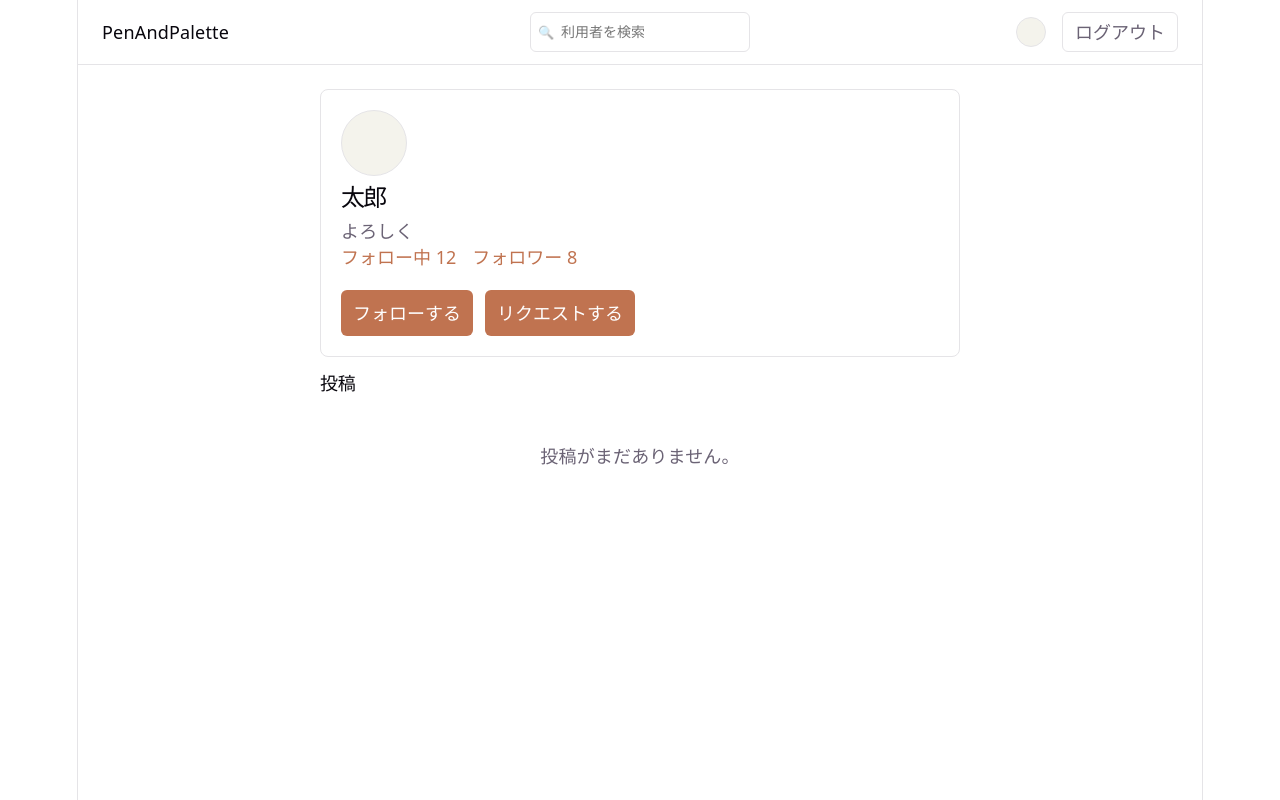
ProfileView › 他人のプロフィールで「フォローする」ボタンを押すとフォローし、表示が切り替わる
This screenshot has width=1280, height=800.
Click the button with test id "profile-follow-button". click: (407, 313)
box: [341, 290, 473, 336]
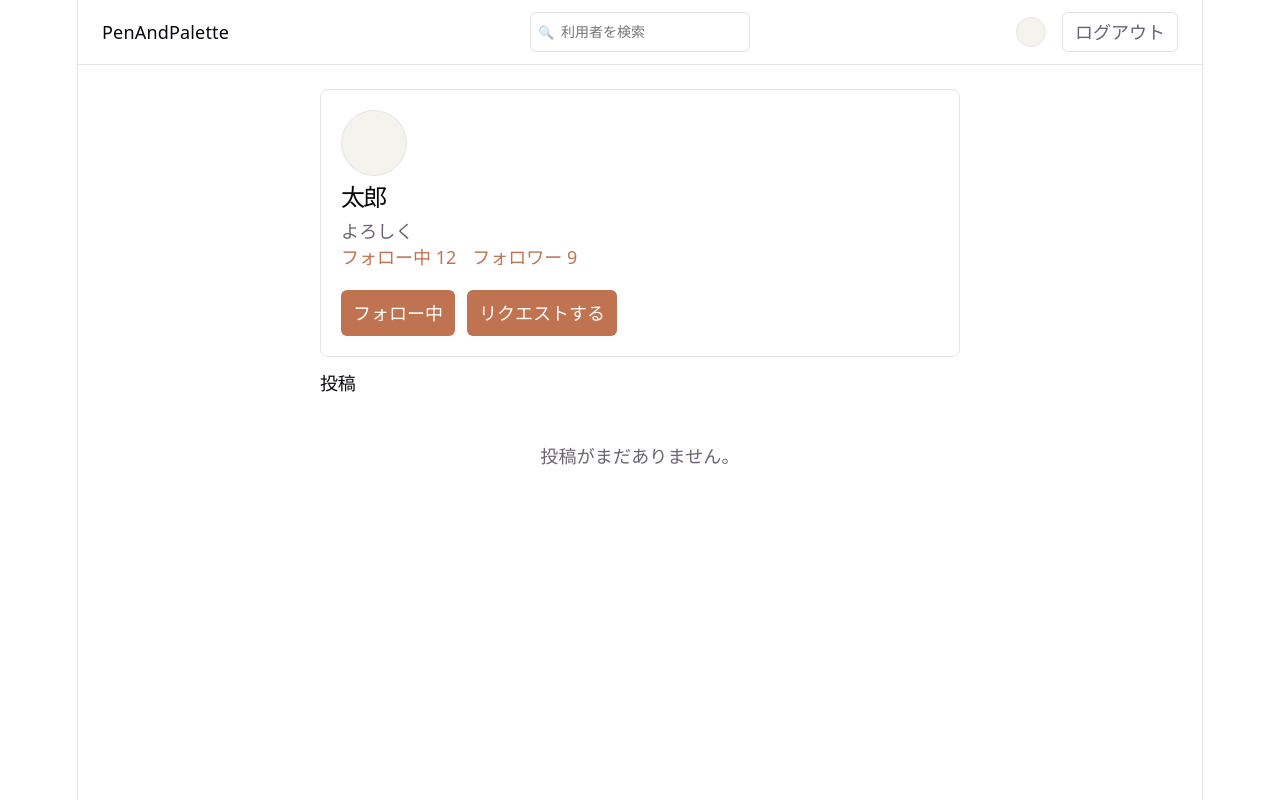
Result: the button with test id "profile-follow-button" reads "フォロー中" at [341, 290, 455, 336]
Result: the button with test id "profile-follower-count" reads "フォロワー 9" at [472, 244, 577, 270]
